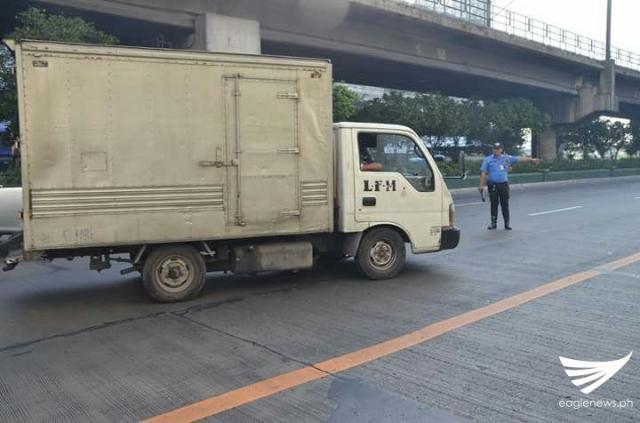truck: (7, 41, 451, 303)
